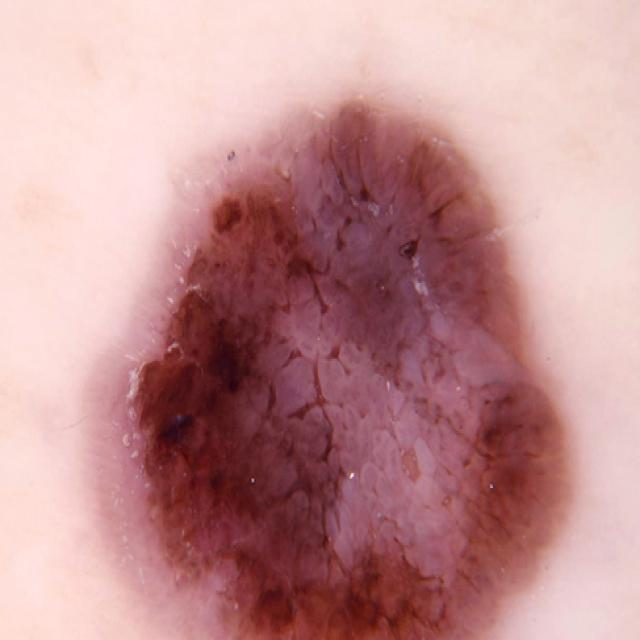Keratosis: (78, 76, 618, 640)
